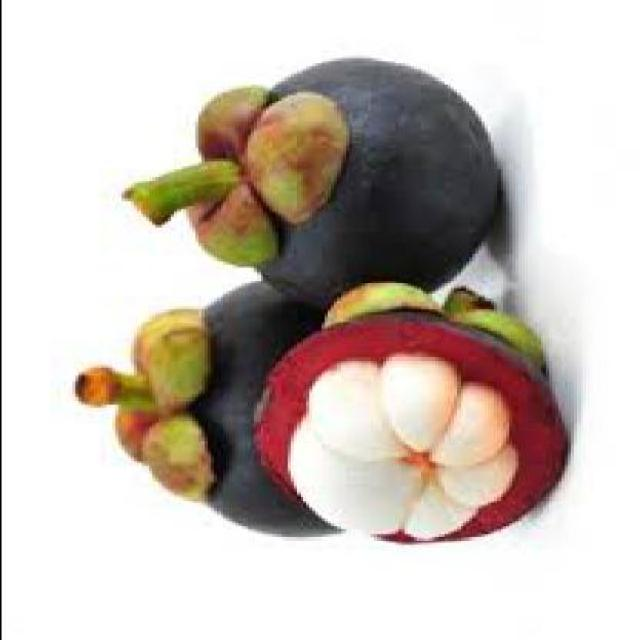BIODEGRADABLE: (124, 59, 499, 296), (254, 284, 568, 542), (79, 281, 330, 534), (191, 281, 335, 536)
